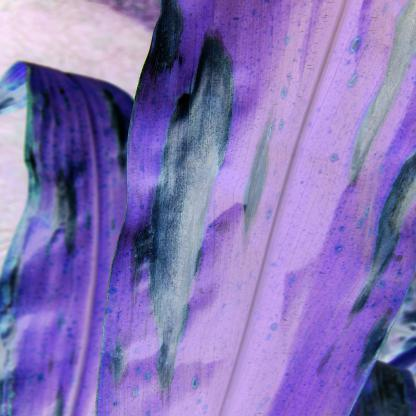Corn leaf blight: (114, 2, 416, 403), (4, 50, 117, 416)
